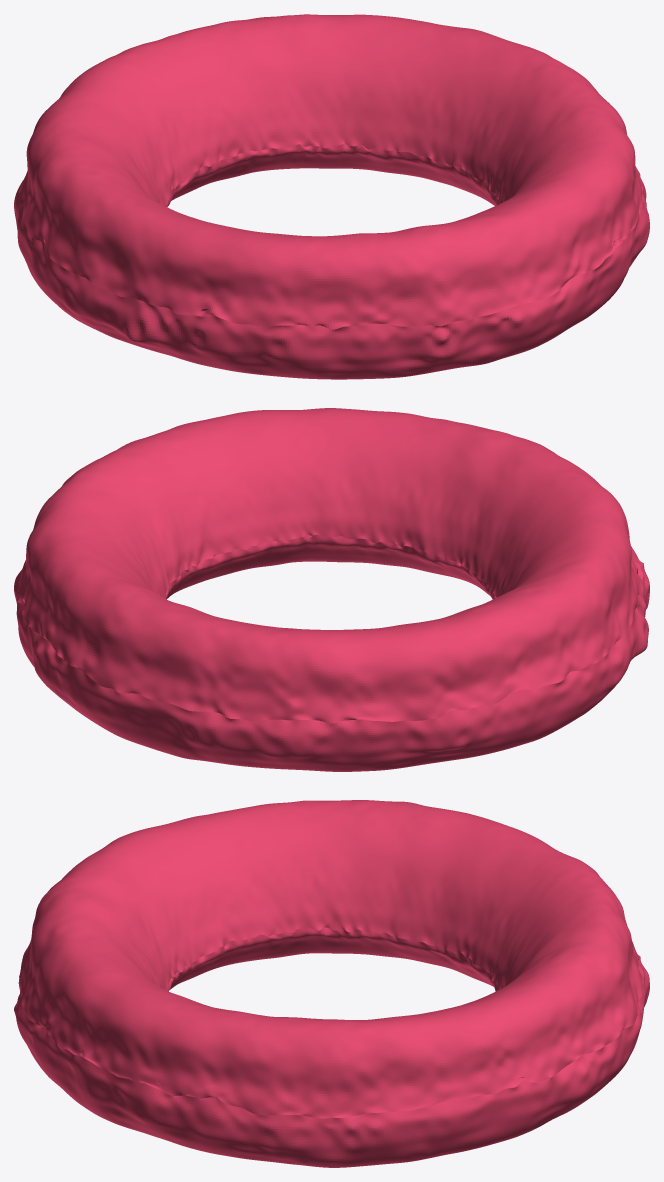
File: float2.fbx
3 views of the same model, one above another, from view 1: azimuth 30°, elevation 25°; view 2: azimuth 150°, elevation 25°; view 3: azimuth 270°, elevation 25° (orthographic).
Parts seen in each view (by area): view 1: Floatie; view 2: Floatie; view 3: Floatie.
Part boxes in pixels (x1,y1,x2,y2): Floatie: (14, 14, 649, 379); Floatie: (14, 408, 649, 771); Floatie: (14, 800, 649, 1167).
Size of the model in its own units: 290 by 69.49 by 292.
